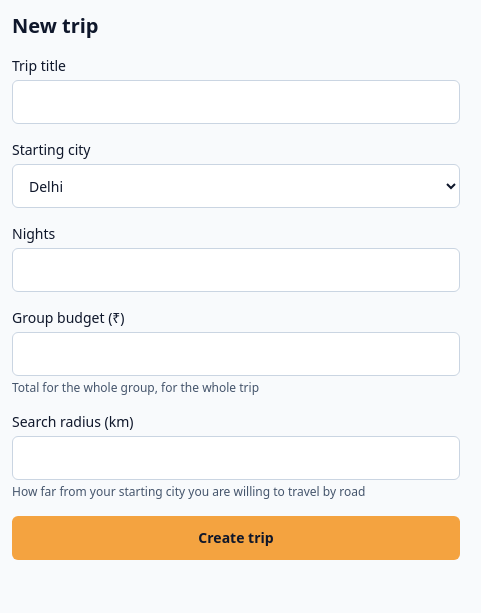
TripForm › maps a server 400 field error under the input and keeps the other values
Expected: the dropdown labelled "Starting city" shows "Delhi", [12, 164, 460, 208]
Type "Test weekend" into the field labelled "Trip title" at coordinates (236, 102), box [12, 80, 460, 124]
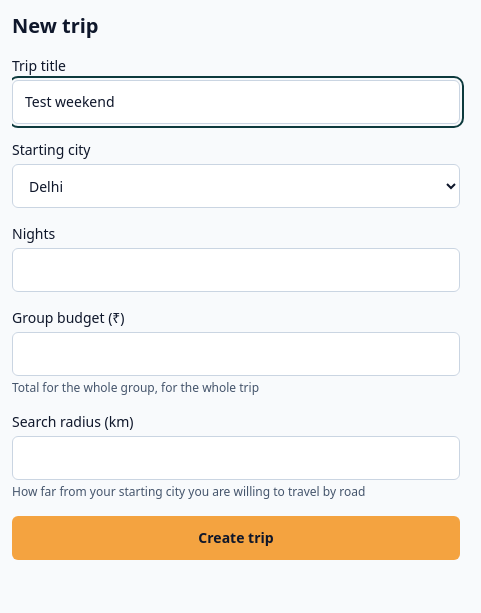
Select "Delhi" in the dropdown labelled "Starting city" at coordinates (236, 186), box [12, 164, 460, 208]
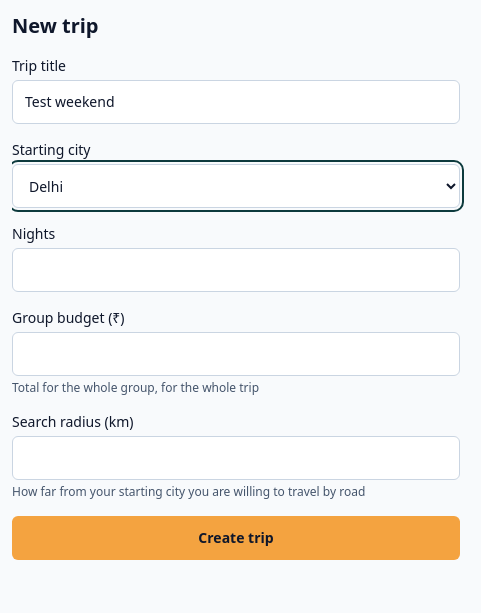
Type "2" into the field labelled "Nights" at coordinates (236, 270), box [12, 248, 460, 292]
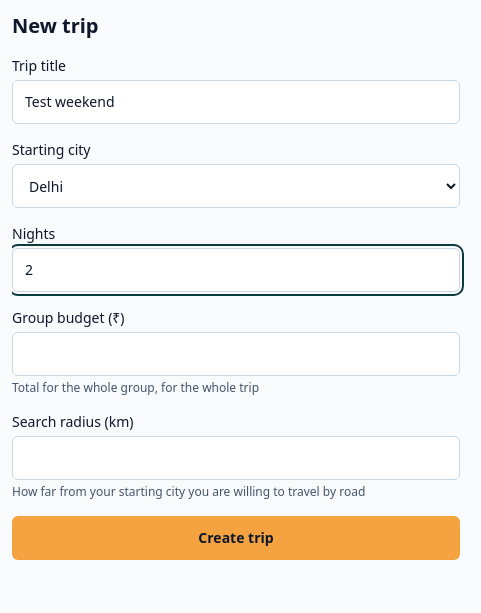
Type "30000" into the field labelled "Group budget (₹)" at coordinates (236, 354), box [12, 332, 460, 376]
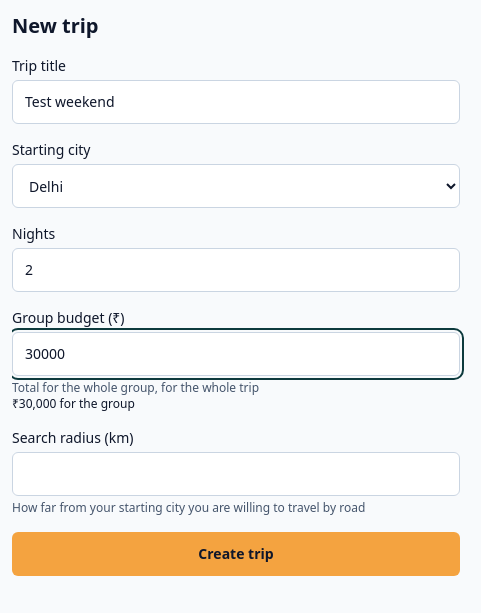
Type "300" into the field labelled "Search radius (km)" at coordinates (236, 474), box [12, 452, 460, 496]
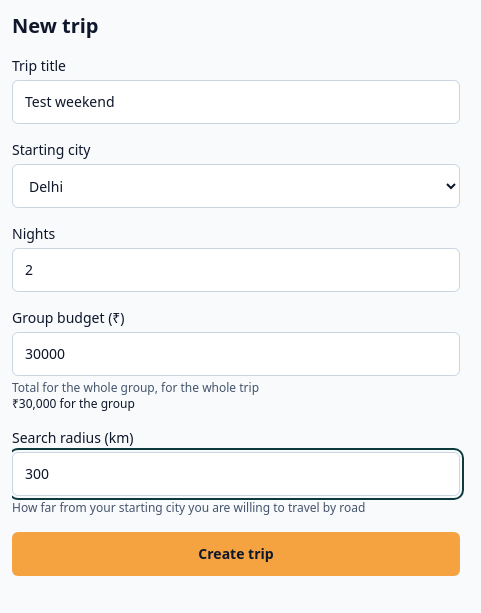
Click the button "Create trip" at coordinates (236, 554), box [12, 532, 460, 576]
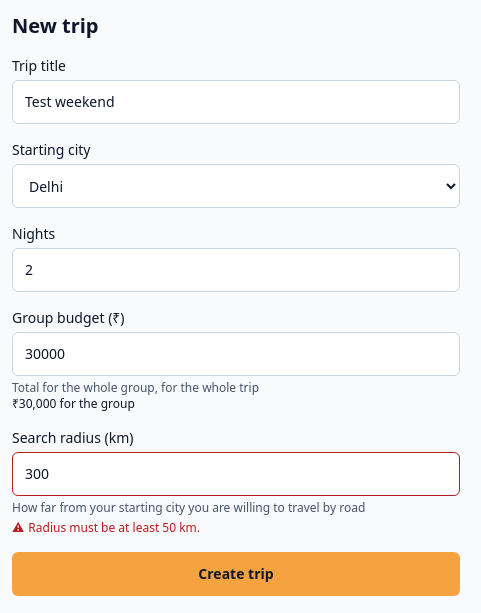
Now the text "Radius must be at least 50 km." is shown, box [28, 519, 200, 536]
